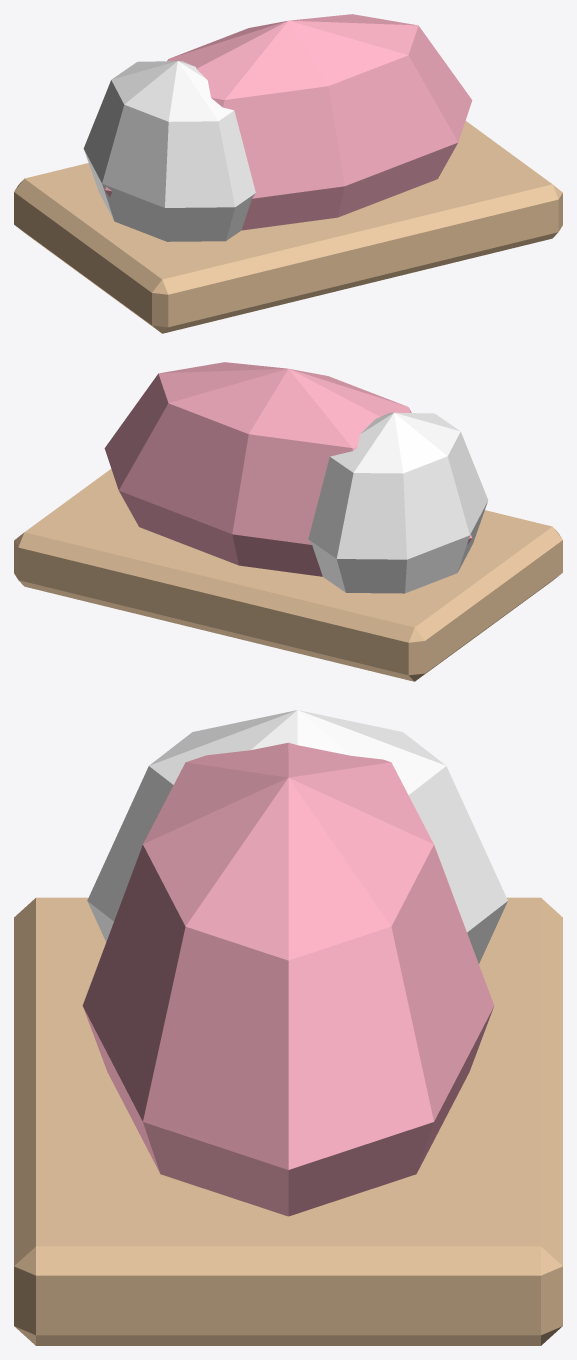
Rendered from Item_Kamaboko_v001.fbx.
3 renders of one model, top to bottom at view 1: azimuth 30°, elevation 25°; view 2: azimuth 150°, elevation 25°; view 3: azimuth 270°, elevation 25°, orthographic. The views are drawn at different scales.
Visible parts, largest first — view 1: Board, Kamaboko, CutFace; view 2: Board, Kamaboko, CutFace; view 3: Kamaboko, Board, CutFace.
Part boxes in pixels (x1,y1,x2,y2): Board: (14, 121, 562, 333); Kamaboko: (104, 14, 472, 230); CutFace: (83, 61, 255, 241); Board: (14, 469, 562, 681); Kamaboko: (104, 362, 472, 576); CutFace: (308, 412, 488, 593); Kamaboko: (82, 742, 494, 1216); Board: (14, 897, 562, 1345); CutFace: (87, 710, 507, 963).
Bounding box in the file's own units: 19 × 11 × 12.
